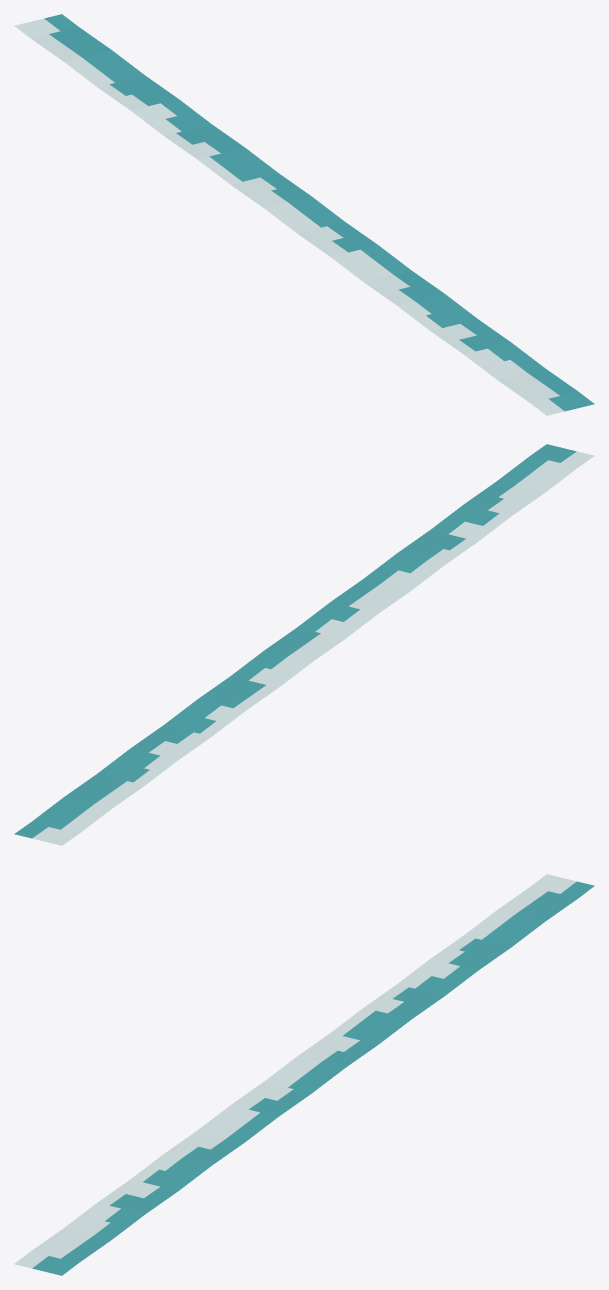
Rendered from surf_foam_edge.glb.
3 renders of one model, top to bottom at view 1: azimuth 30°, elevation 25°; view 2: azimuth 150°, elevation 25°; view 3: azimuth 330°, elevation 25°, orthographic.
Visible parts, largest first — view 1: surf_foam_edge; view 2: surf_foam_edge; view 3: surf_foam_edge.
Part boxes in pixels (left/top/right/bottom): surf_foam_edge: left=14, top=14, right=594, bottom=415; surf_foam_edge: left=14, top=444, right=594, bottom=845; surf_foam_edge: left=14, top=874, right=594, bottom=1275.
Bounding box in the file's own units: 5 × 0.1 × 96.
